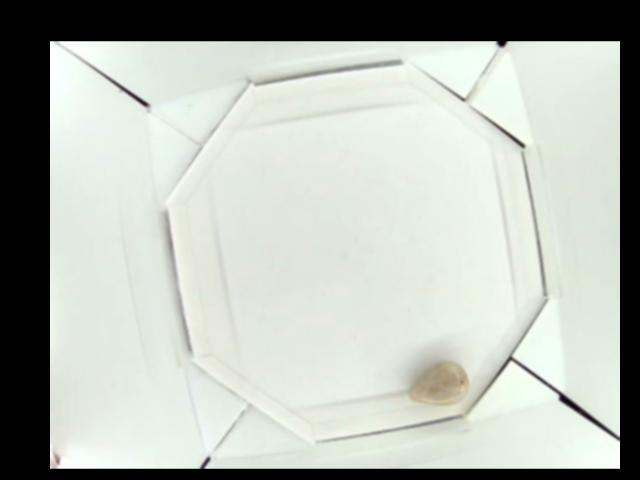Pebble: (405, 359, 468, 404)
